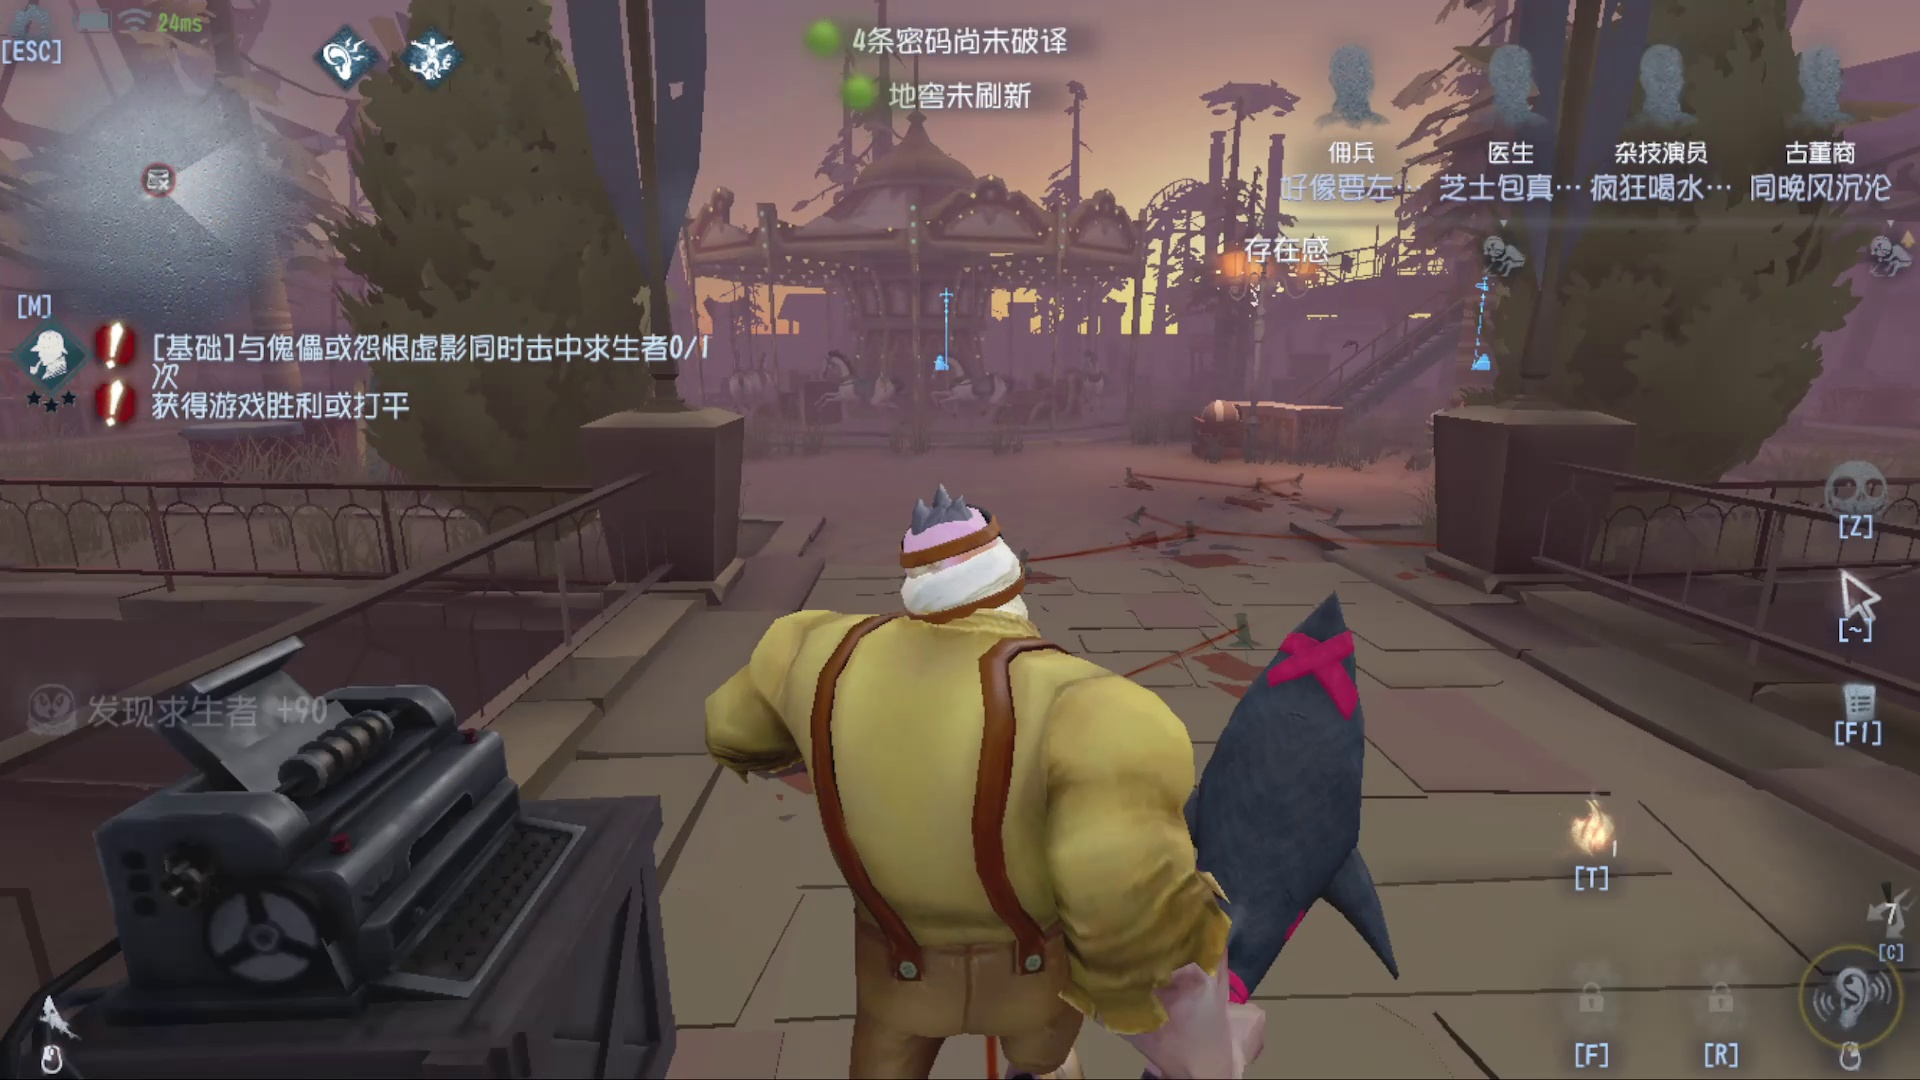密码机: (13, 567, 694, 1077), (1444, 255, 1509, 397), (920, 281, 963, 384)
脚印: (1075, 451, 1382, 641)
